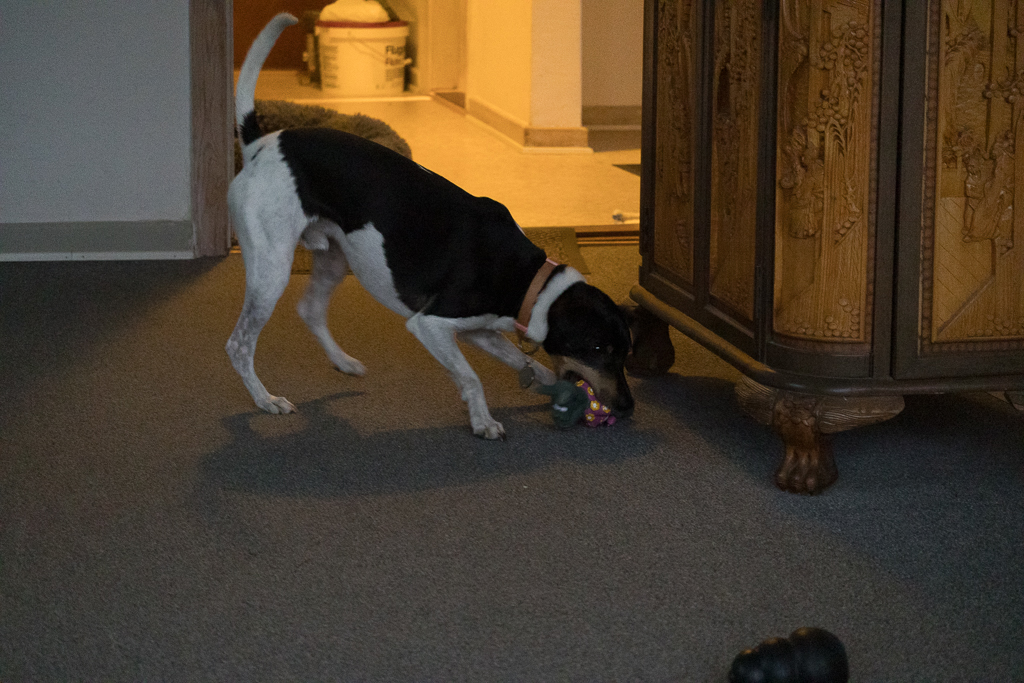Dog: (216, 6, 645, 449)
Humanoid: (530, 369, 629, 437)
